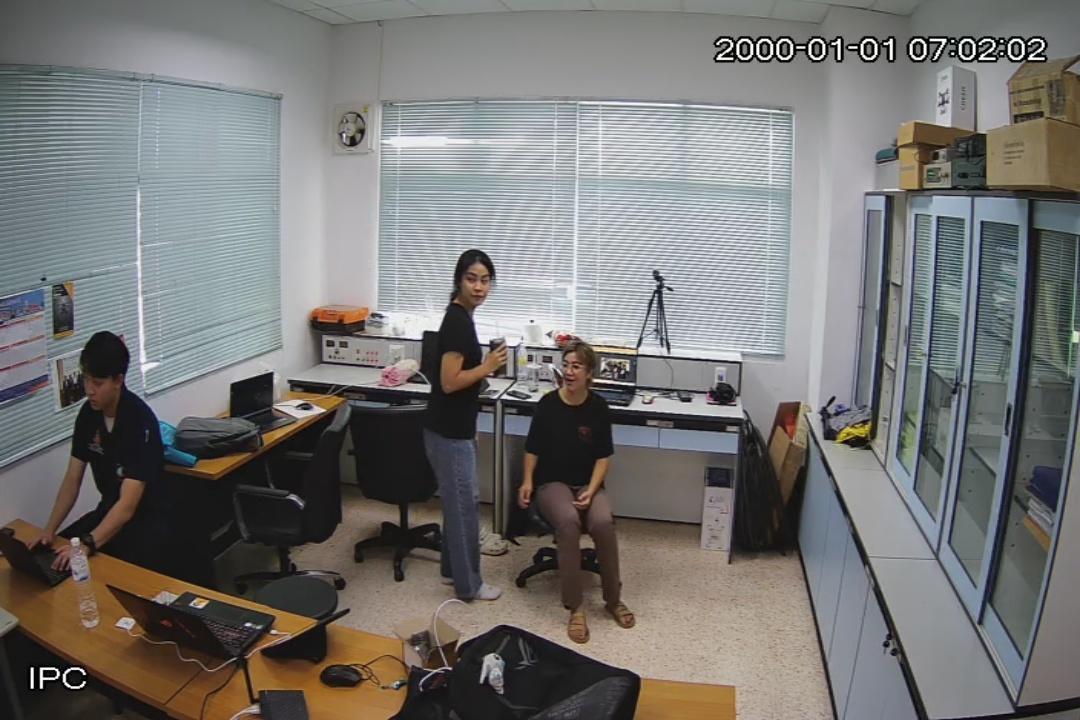normal: (31, 334, 176, 572), (525, 344, 631, 634), (423, 249, 508, 602)
